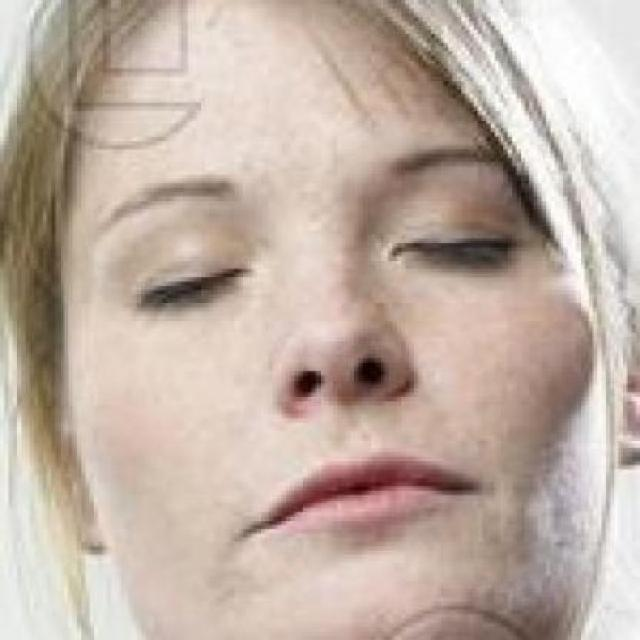drowsy: (126, 255, 252, 323), (389, 219, 514, 270)
